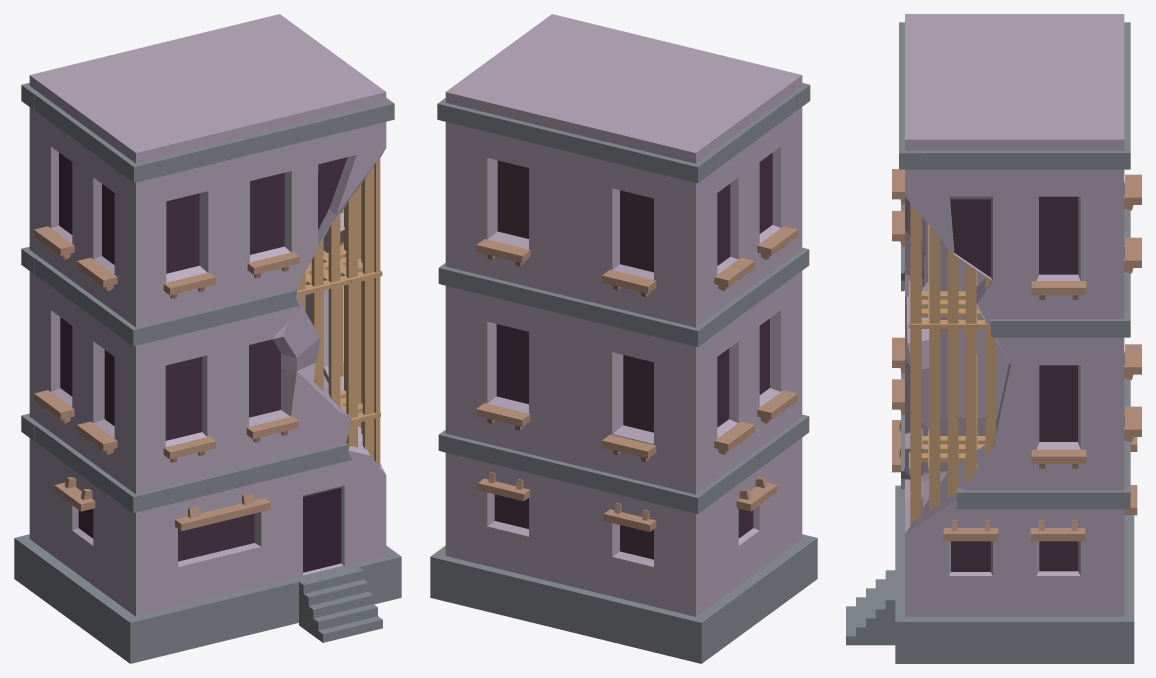
The model's file is PinkBuilding.fbx.
3 views of the same model, side by side, from view 1: azimuth 30°, elevation 25°; view 2: azimuth 150°, elevation 25°; view 3: azimuth 270°, elevation 25° (orthographic). The views are drawn at different scales.
Parts seen in each view (by area): view 1: base buiolding, sepertating trims, Cube, inner structure, shelves, Cube.001; view 2: base buiolding, sepertating trims, Cube, shelves; view 3: base buiolding, inner structure, sepertating trims, Cube, shelves, Cube.001.
Part boxes in pixels (x1,y1,x2,y2): base buiolding: (29, 14, 386, 616); sepertating trims: (21, 83, 394, 513); Cube: (14, 534, 401, 663); inner structure: (296, 157, 382, 466); shelves: (34, 226, 299, 531); Cube.001: (299, 567, 382, 642); base buiolding: (445, 14, 802, 616); sepertating trims: (437, 83, 810, 513); Cube: (430, 534, 817, 663); shelves: (476, 226, 797, 531); base buiolding: (905, 14, 1124, 616); inner structure: (909, 203, 996, 525); sepertating trims: (899, 22, 1130, 509); Cube: (895, 485, 1134, 663); shelves: (892, 169, 1141, 541); Cube.001: (846, 570, 895, 645).
Size of the model in its own units: 396 by 686 by 353.
